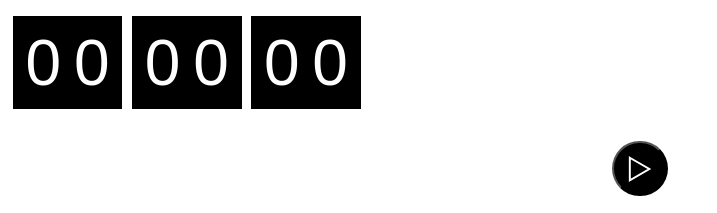
Scenario: Stopwatch switches to paused controls on click of pause button
Click the button with alt text "start stopwatch". click: coordinates (640, 169)
box: x1=612 y1=141 x2=668 y2=196
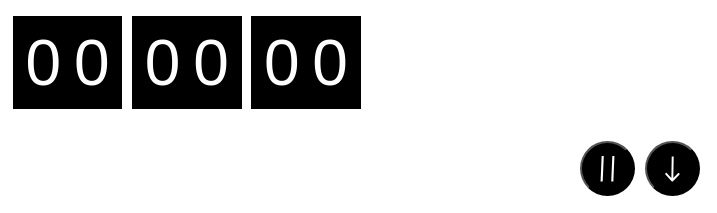
Click the 1st button with alt text "pause stopwatch". click: coordinates (608, 169)
box: x1=580 y1=141 x2=635 y2=196
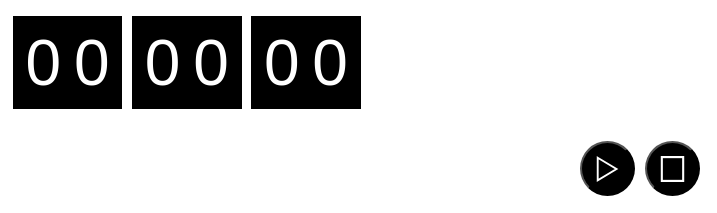
Expected: the picture with alt text "start stopwatch" is shown, x1=595 y1=156 x2=620 y2=182
Expected: the picture with alt text "stop stopwatch" is shown, x1=660 y1=156 x2=685 y2=182
